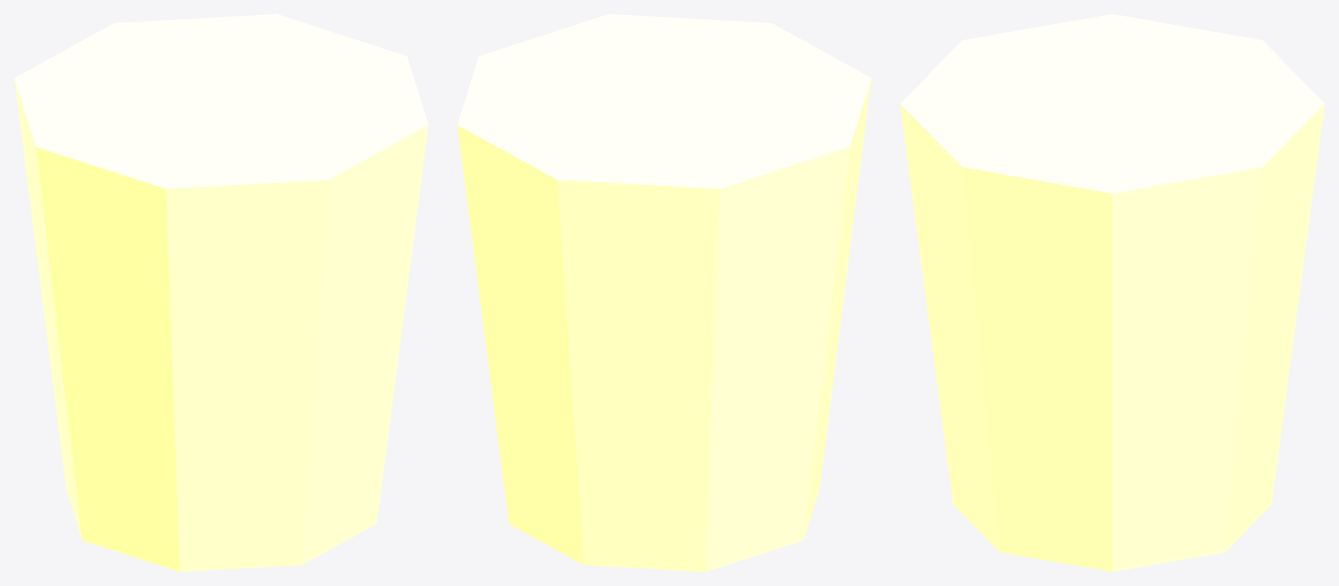
Rendered from sky_lantern.glb.
3 renders of one model, left to right at view 1: azimuth 30°, elevation 25°; view 2: azimuth 150°, elevation 25°; view 3: azimuth 270°, elevation 25°, orthographic.
Visible parts, largest first — view 1: sky_lantern; view 2: sky_lantern; view 3: sky_lantern.
Part boxes in pixels (x1,y1,x2,y2): sky_lantern: [14, 14, 428, 571]; sky_lantern: [457, 14, 871, 571]; sky_lantern: [900, 14, 1324, 571].
Bounding box in the file's own units: 0.48 × 0.5 × 0.48.
